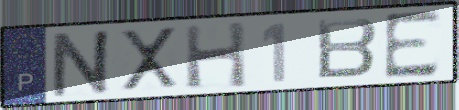1: (260, 20, 288, 84)
B: (314, 15, 380, 81)
E: (381, 8, 444, 82)
H: (181, 19, 249, 91)
N: (49, 27, 117, 99)
X: (117, 25, 181, 94)
